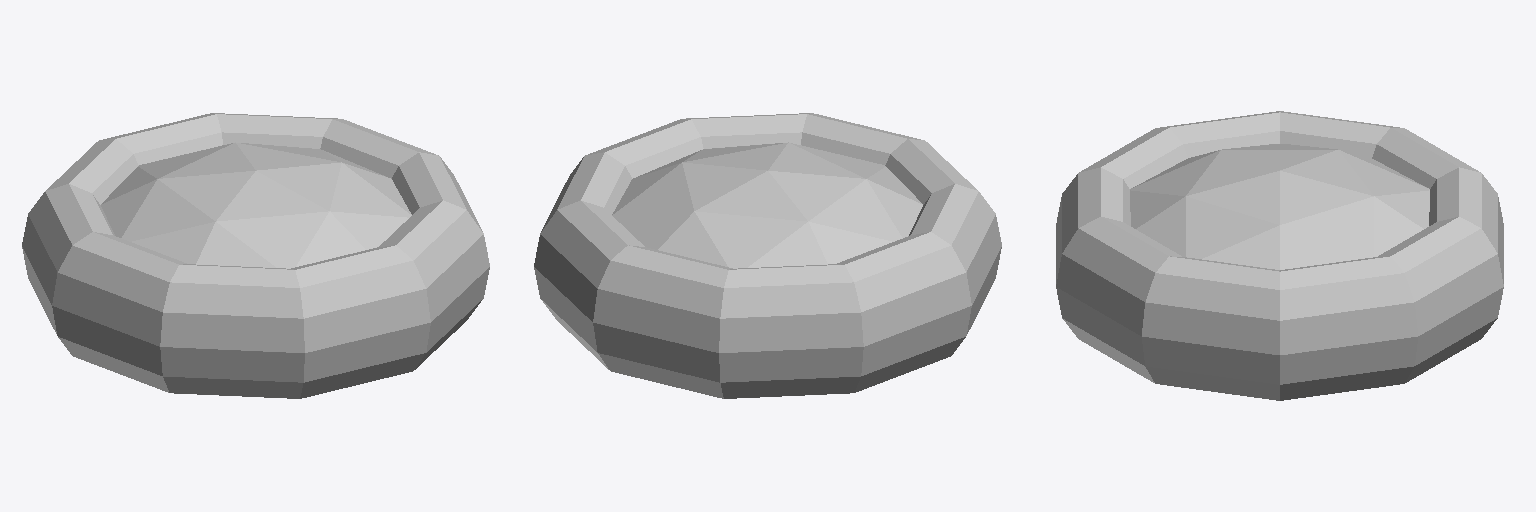
The model's file is push button.obj.
3 views of the same model, side by side, from view 1: azimuth 30°, elevation 25°; view 2: azimuth 150°, elevation 25°; view 3: azimuth 270°, elevation 25° (orthographic).
Parts seen in each view (by area): view 1: Torus, Icosphere; view 2: Torus, Icosphere; view 3: Torus, Icosphere.
Boxes of the visible parts, <box> form: Torus: <box>22,113,489,398</box>; Icosphere: <box>101,142,411,268</box>; Torus: <box>534,113,1001,398</box>; Icosphere: <box>612,142,922,268</box>; Torus: <box>1056,111,1503,400</box>; Icosphere: <box>1130,144,1429,269</box>.
Size of the model in its own units: 2.5 by 1 by 2.38.